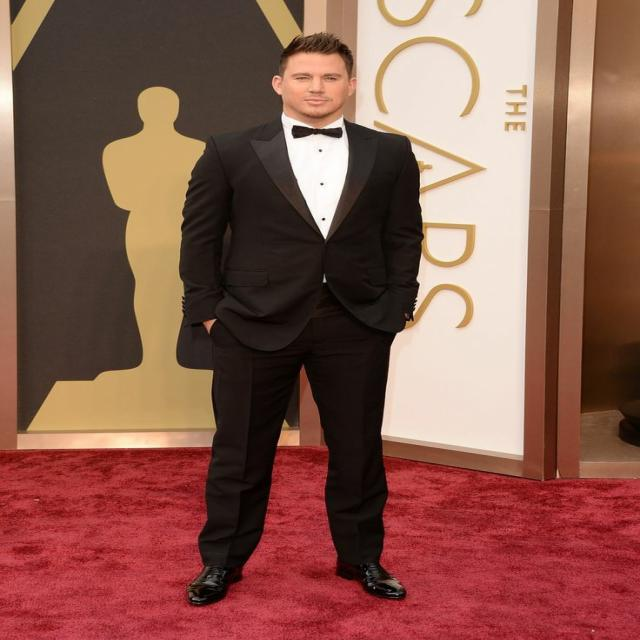male-dress: (186, 130, 424, 579)
